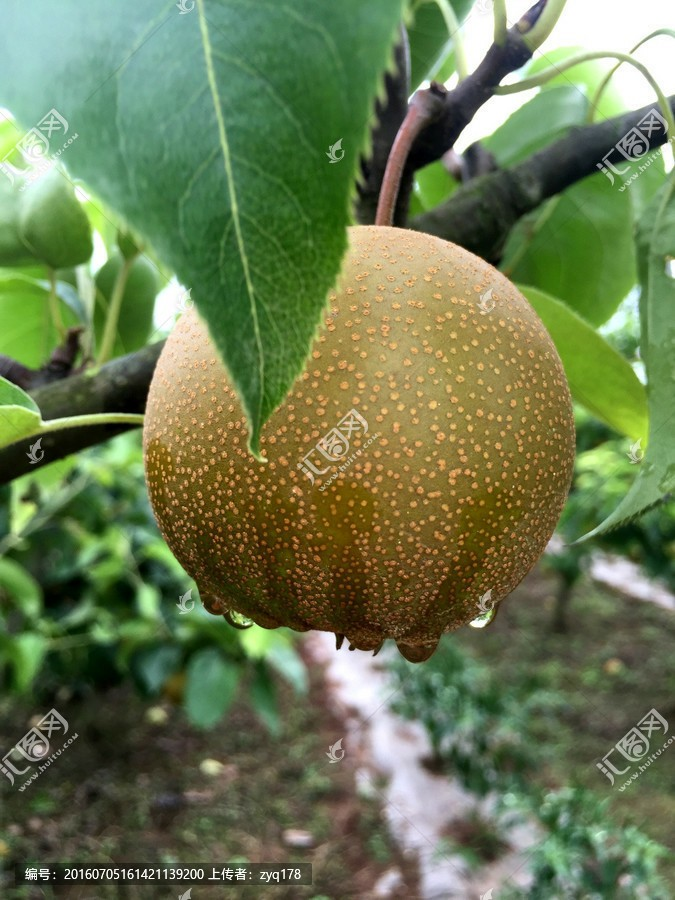pear: (146, 224, 570, 652)
